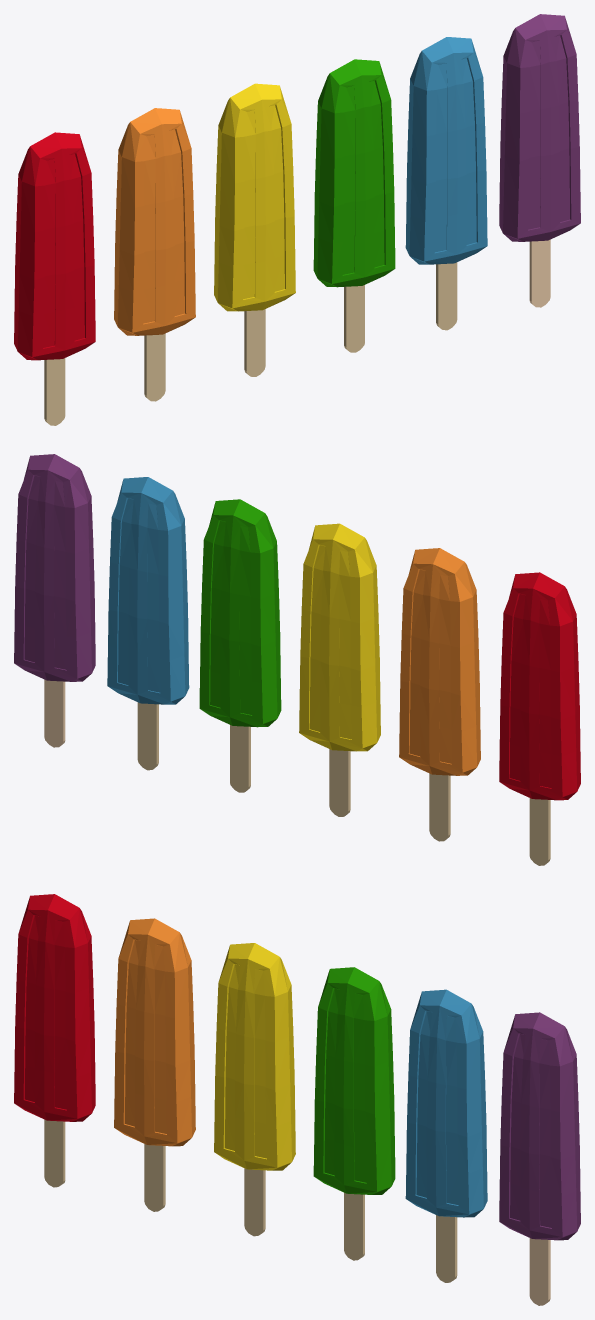
The model's file is popsicles.gltf.
3 views of the same model, one above another, from view 1: azimuth 30°, elevation 25°; view 2: azimuth 150°, elevation 25°; view 3: azimuth 330°, elevation 25° (orthographic).
Visible parts, largest first — view 1: node-0; view 2: node-0; view 3: node-0.
Boxes of the visible parts, x1,y1,x2,y2 form: node-0: [14, 14, 580, 425]; node-0: [14, 454, 580, 865]; node-0: [14, 894, 580, 1305].
Bounding box in the file's own units: 6.61 × 3.31 × 0.4496.
